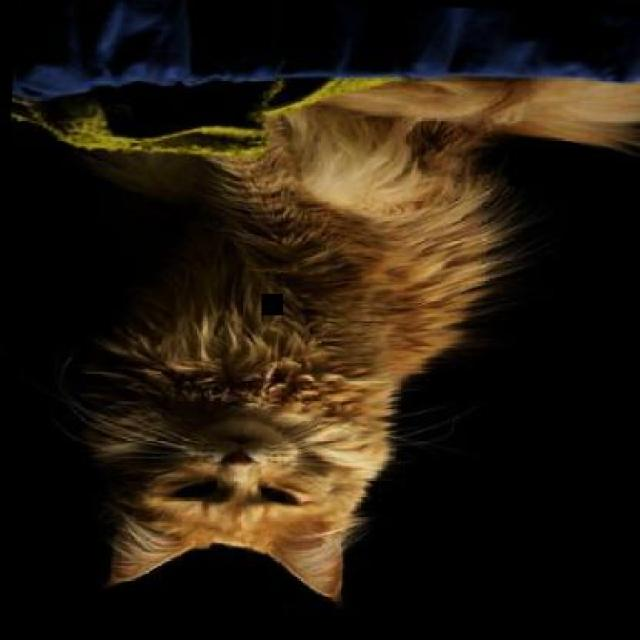cat: (70, 51, 638, 615)
